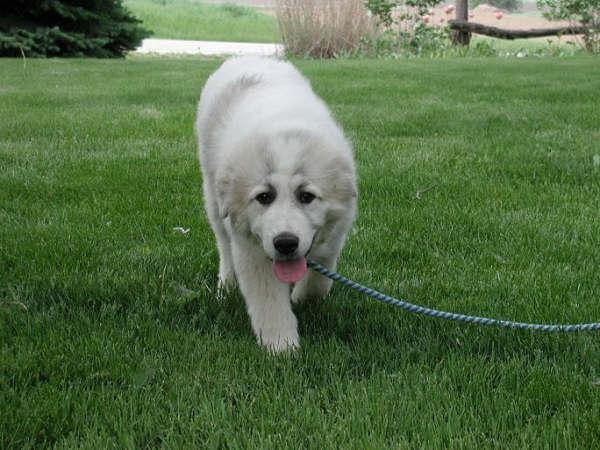Great_Pyrenees: (190, 52, 357, 352)
